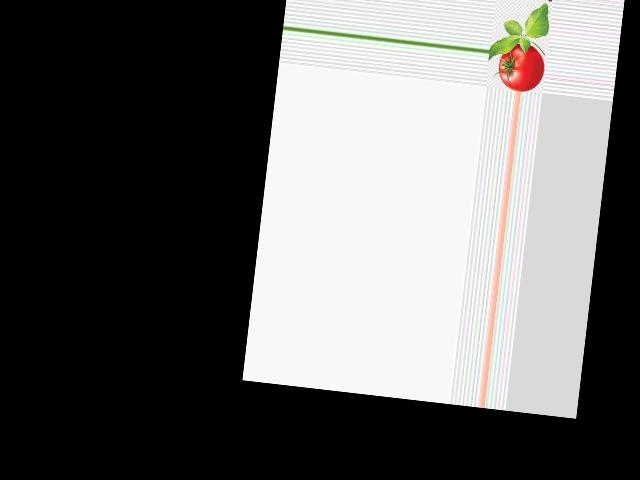tomato: (496, 41, 547, 94)
